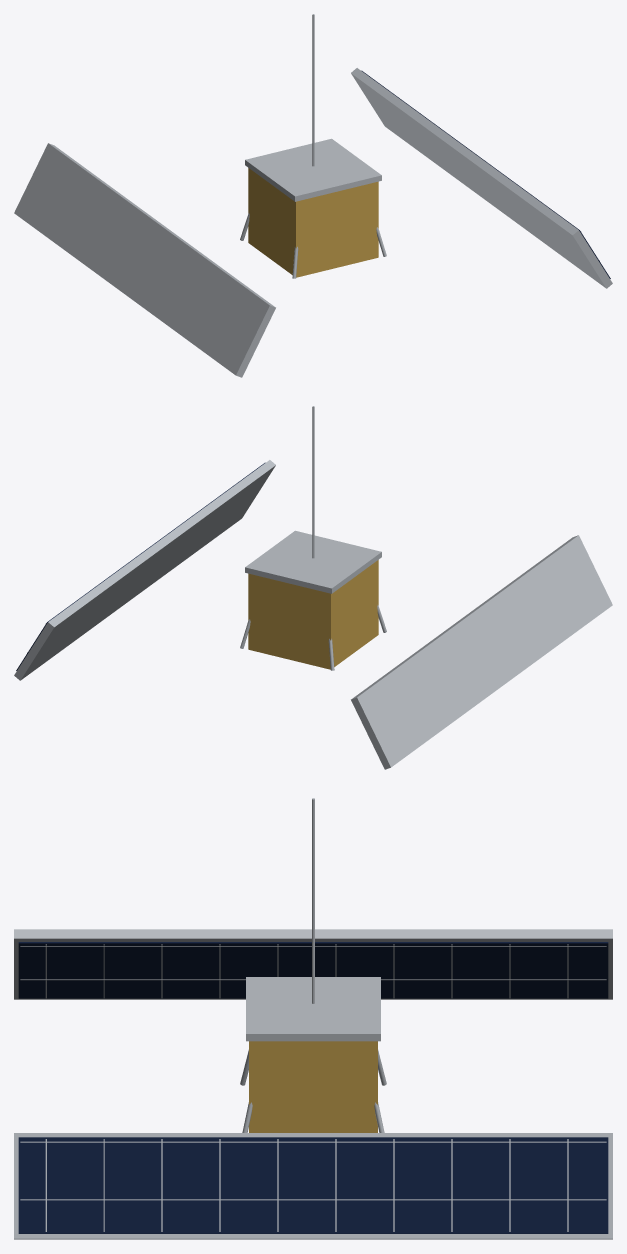
The model's file is seismometer.glb.
The picture shows the model from 3 angles, top to bottom: view 1: azimuth 30°, elevation 25°; view 2: azimuth 150°, elevation 25°; view 3: azimuth 270°, elevation 25°; orthographic projection. The views are drawn at different scales.
Parts seen in each view (by area): view 1: panel_frame (×2), instrument, top_plate; view 2: panel_frame (×2), instrument, top_plate; view 3: photovoltaic_surface (×2), panel_frame (×2), instrument, top_plate, cell_divider (×3), antenna_mast.
Part boxes in pixels (x1,y1,x2,y2): panel_frame (×2): (14, 68, 612, 377); instrument: (248, 168, 378, 277); top_plate: (245, 138, 381, 201); panel_frame (×2): (14, 460, 612, 769); instrument: (248, 560, 378, 669); top_plate: (245, 530, 381, 593); photovoltaic_surface (×2): (18, 942, 608, 1233); panel_frame (×2): (14, 929, 612, 1239); instrument: (249, 1041, 377, 1132); top_plate: (246, 977, 380, 1041); cell_divider (×3): (20, 979, 606, 1200); antenna_mast: (312, 798, 314, 1003).
Size of the model in its own units: 1.83 by 1.1 by 1.86.
